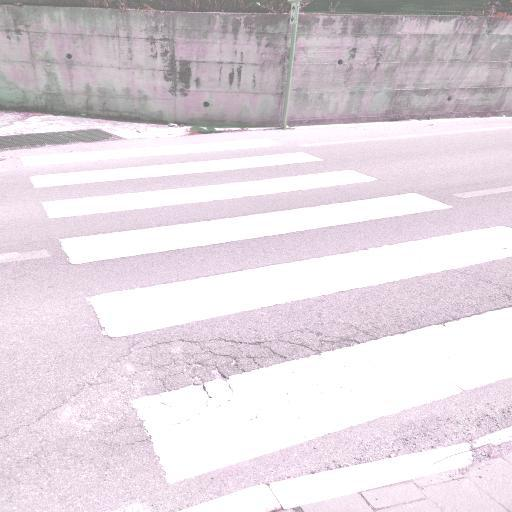crosswalk: (36, 164, 458, 279)
